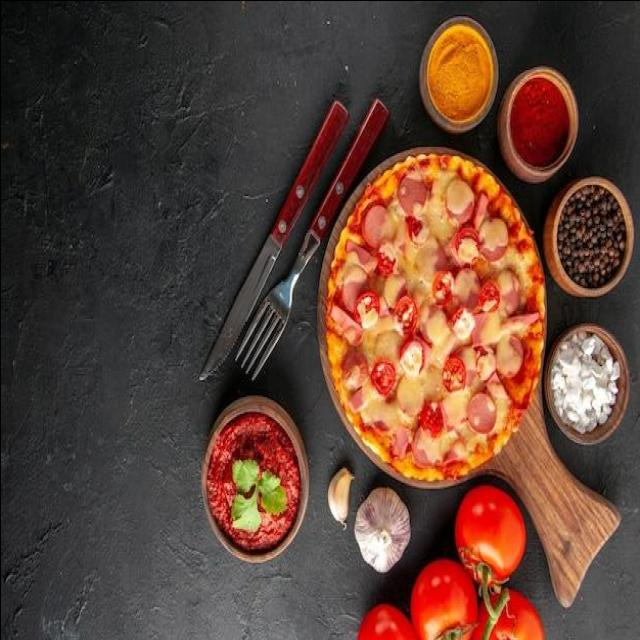pizza: (325, 152, 544, 482)
